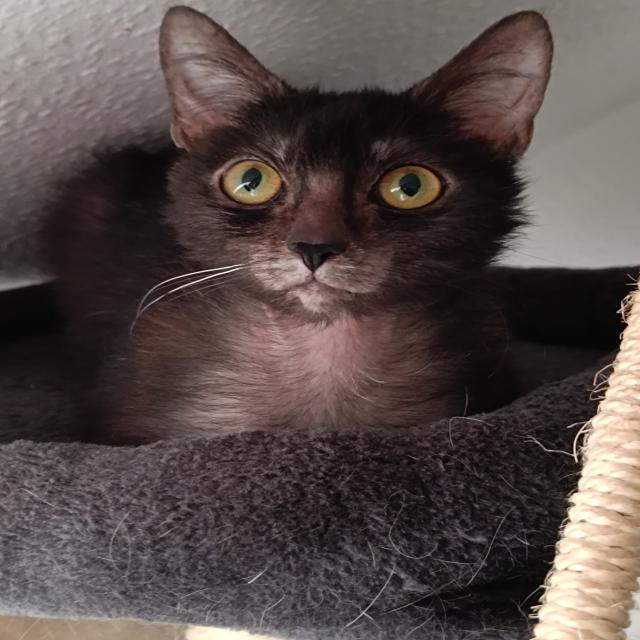Lykoi: (30, 0, 559, 452)
